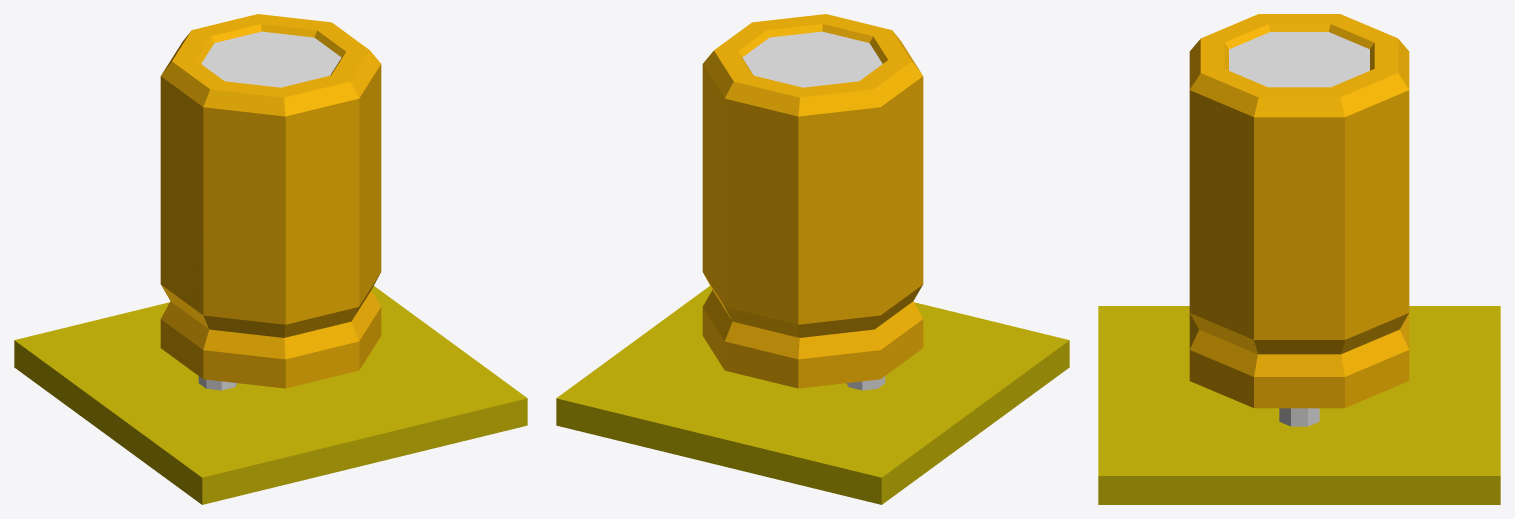
Rendered from epe_capacitor.dae.
The picture shows the model from 3 angles, left to right: view 1: azimuth 30°, elevation 25°; view 2: azimuth 150°, elevation 25°; view 3: azimuth 270°, elevation 25°; orthographic projection. The views are drawn at different scales.
Visible parts, largest first — view 1: capacitor; view 2: capacitor; view 3: capacitor.
Boxes of the visible parts, x1=… form: capacitor: x1=14, y1=14, x2=527, y2=504; capacitor: x1=556, y1=14, x2=1069, y2=504; capacitor: x1=1098, y1=14, x2=1500, y2=504.
Bounding box in the file's own units: 0.25 × 0.25 × 0.25.
